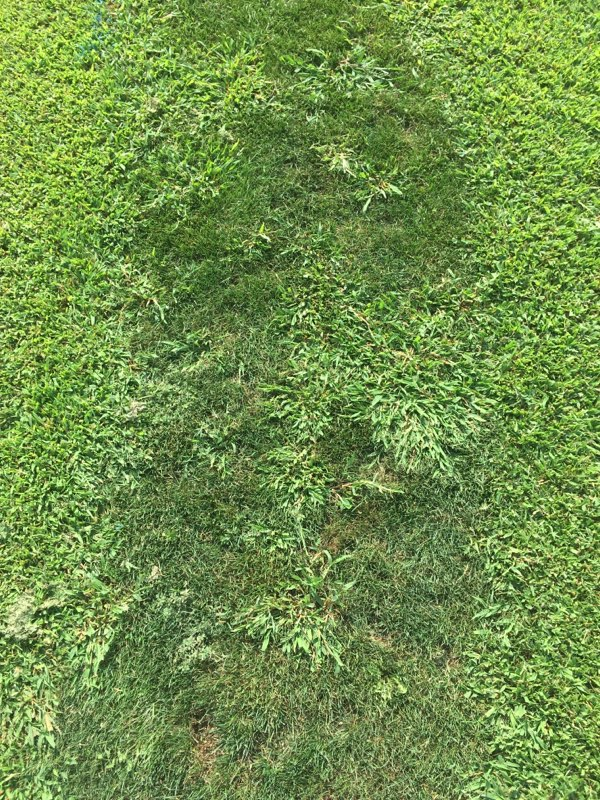crabgrass: (311, 282, 533, 488)
